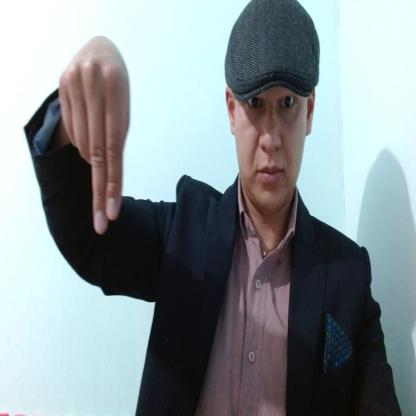N: (62, 38, 132, 235)
